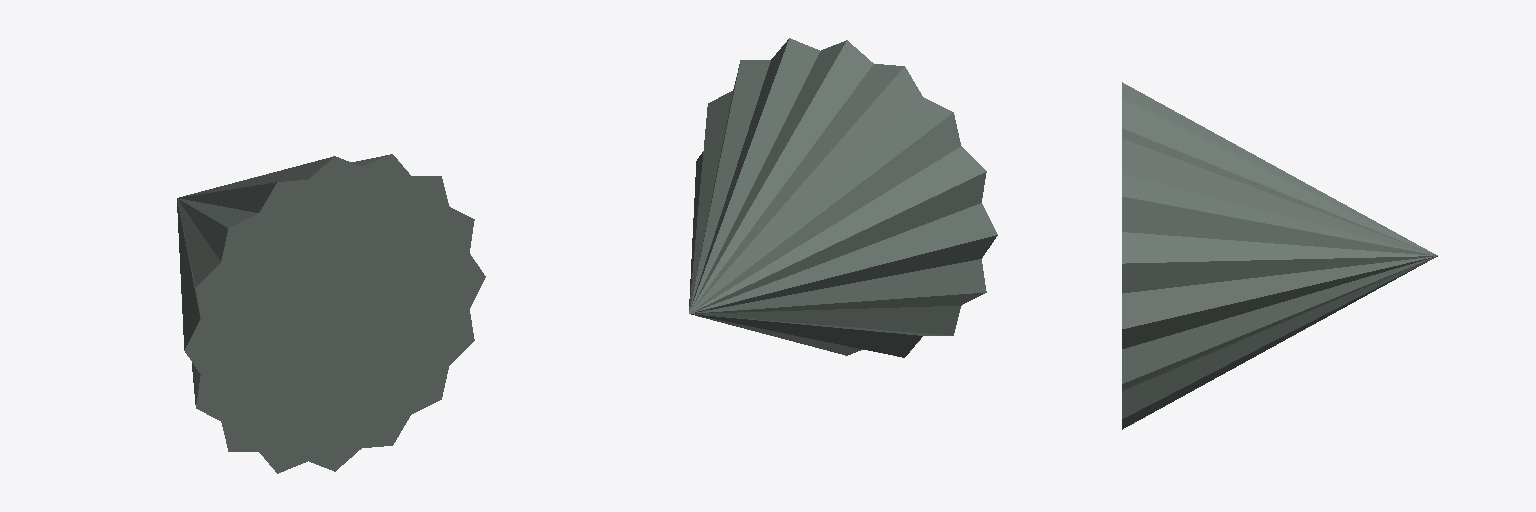
The picture shows the model from 3 angles: view 1: azimuth 30°, elevation 25°; view 2: azimuth 150°, elevation 25°; view 3: azimuth 270°, elevation 25°; orthographic projection.
Parts seen in each view (by area): view 1: 円錐; view 2: 円錐; view 3: 円錐.
Part boxes in pixels (x1,y1,x2,y2): 円錐: (177,154,485,473); 円錐: (689,38,997,357); 円錐: (1122,82,1437,429).
Size of the model in its own units: 0.44 by 0.44 by 0.4.
Materials: 1 (1 with a texture image).